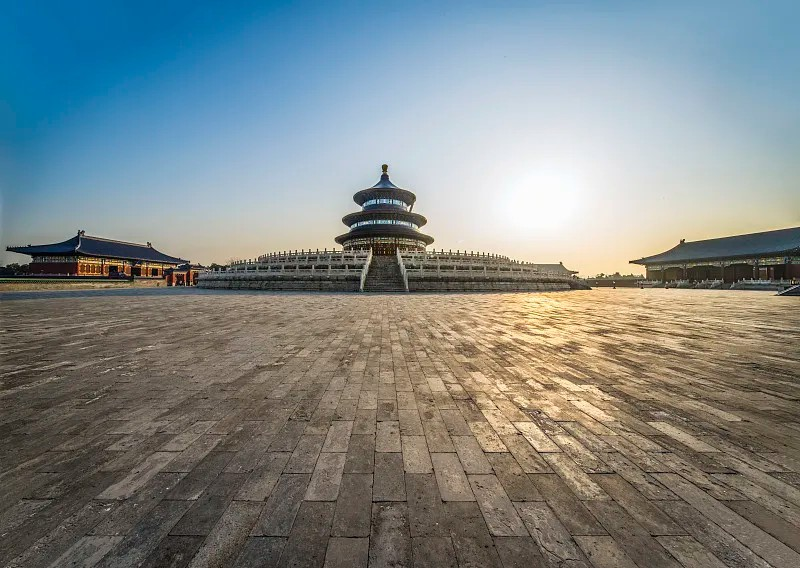Heaven: (334, 164, 434, 255)
